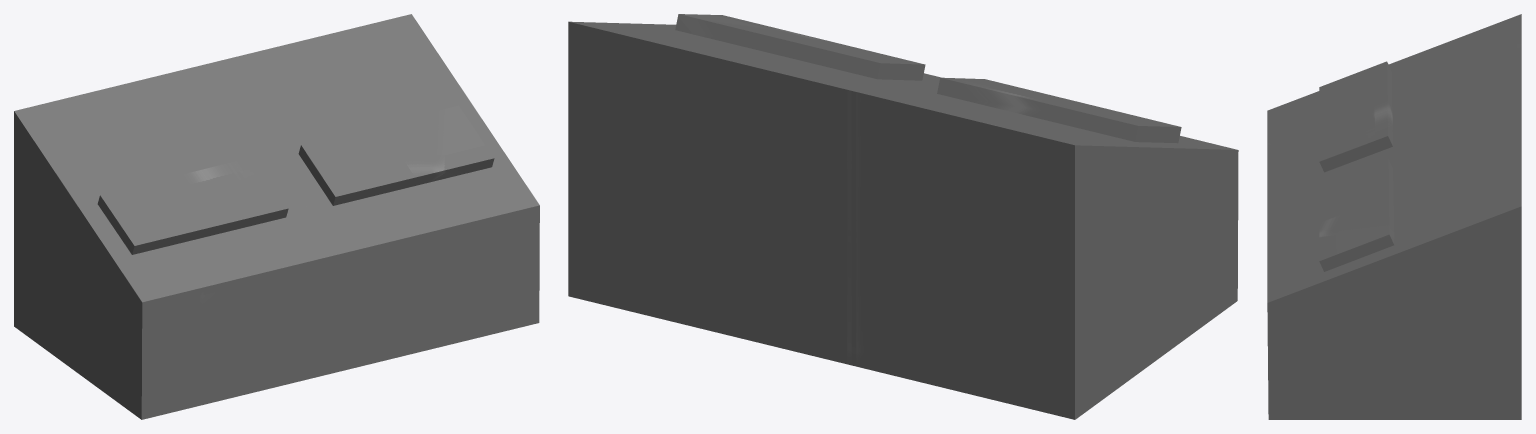
The model's file is P_Panel.FBX.
3 views of the same model, side by side, from view 1: azimuth 30°, elevation 25°; view 2: azimuth 150°, elevation 25°; view 3: azimuth 270°, elevation 25° (orthographic). The views are drawn at different scales.
Visible parts, largest first — view 1: conroll_panal; view 2: conroll_panal; view 3: conroll_panal.
Part boxes in pixels (x1=…): conroll_panal: x1=14, y1=14, x2=539, y2=419; conroll_panal: x1=568, y1=14, x2=1238, y2=419; conroll_panal: x1=1267, y1=14, x2=1521, y2=419.
Bounding box in the file's own units: 19.76 × 10.23 × 11.03.
